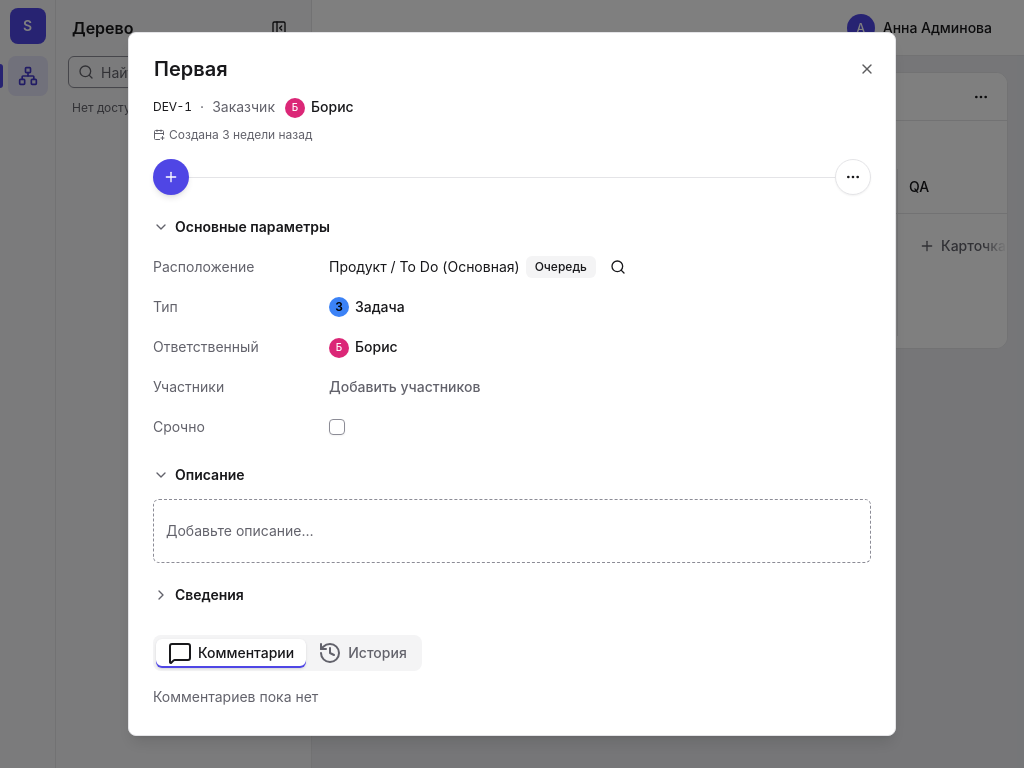
Scenario: Карточка: люди, поля, метки › в открытом списке подсвечен текущий ответственный — Enter ничего не меняет (LATER-112)
Click the button with aria-label "Борис — ответственный". click: (363, 347)
box: top-left (321, 331), bottom-right (406, 363)
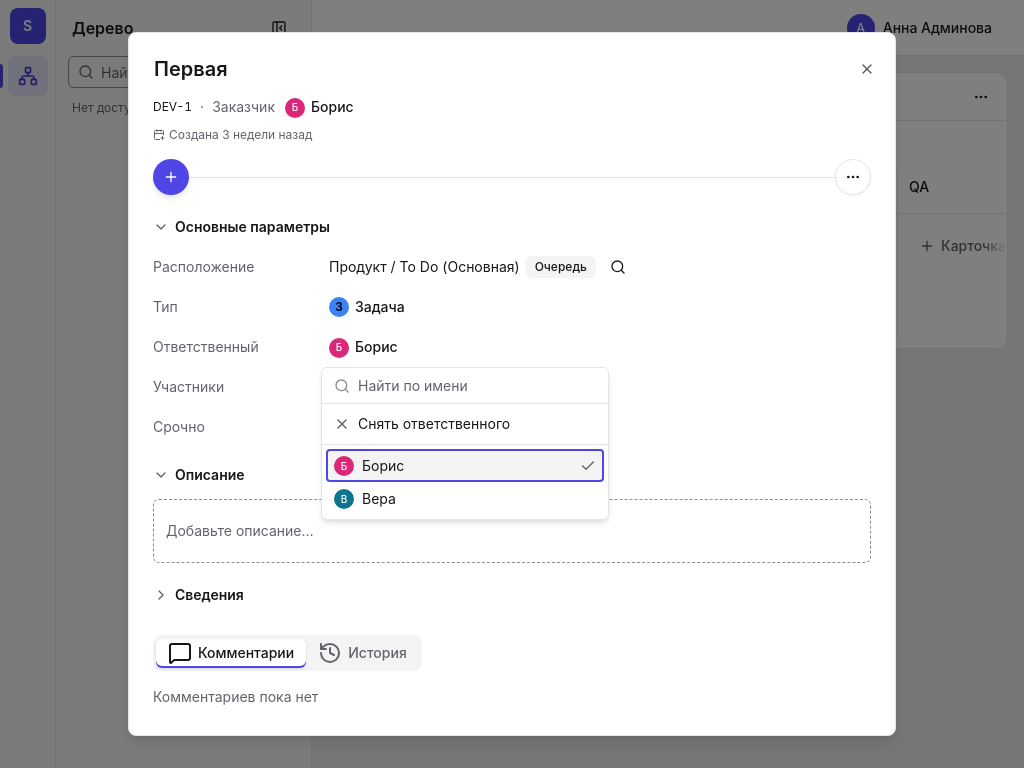
Check: the option "В Вера" is shown, box top-left (334, 489), bottom-right (396, 509)
Press Enter
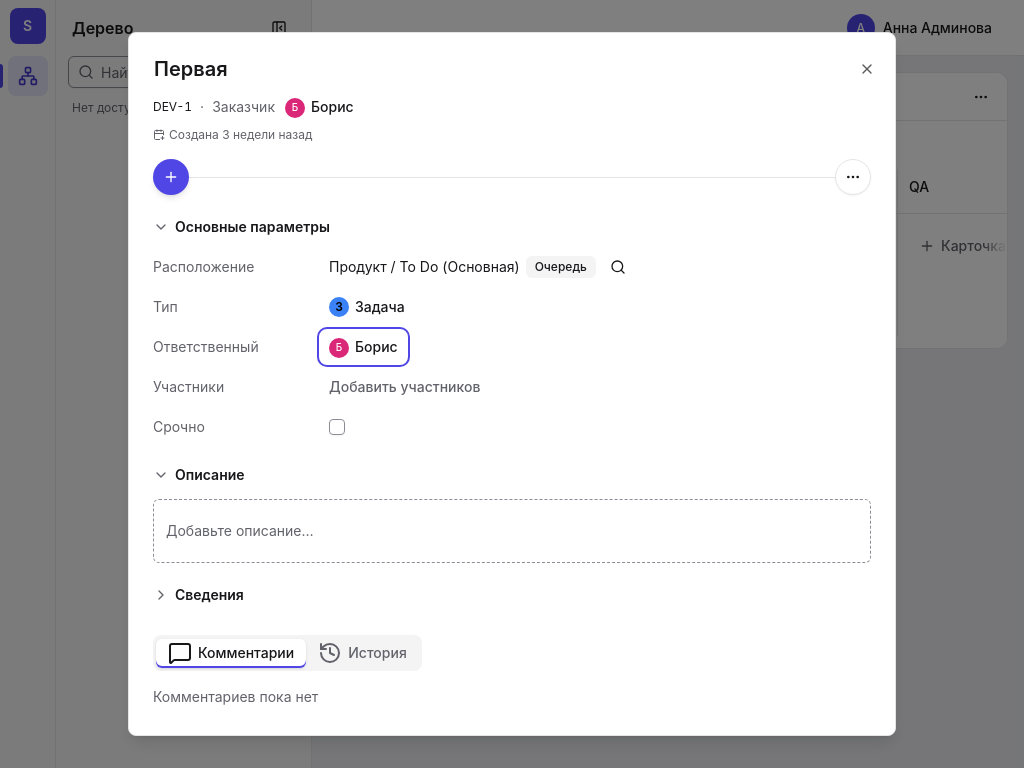
Check: the list is gone
